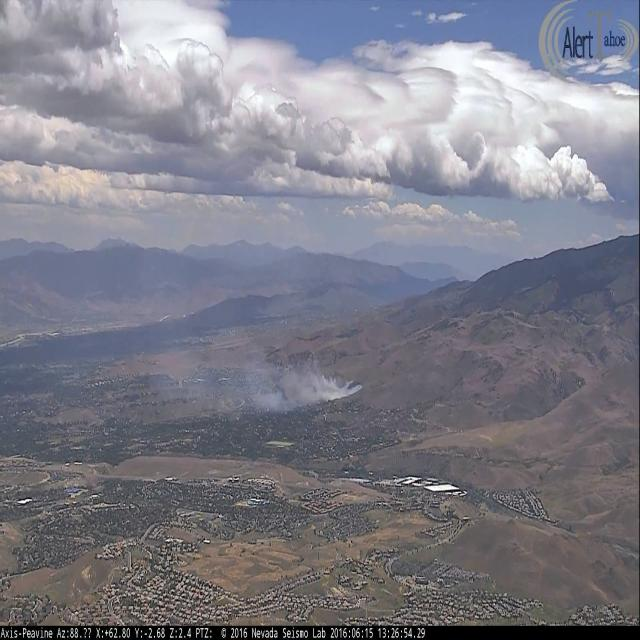smoke: (256, 369, 363, 410)
